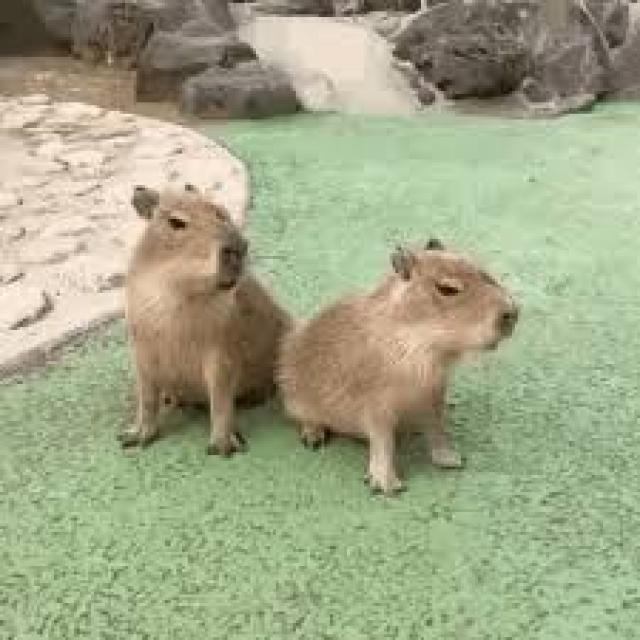capy: (275, 236, 523, 494), (121, 179, 282, 456)
